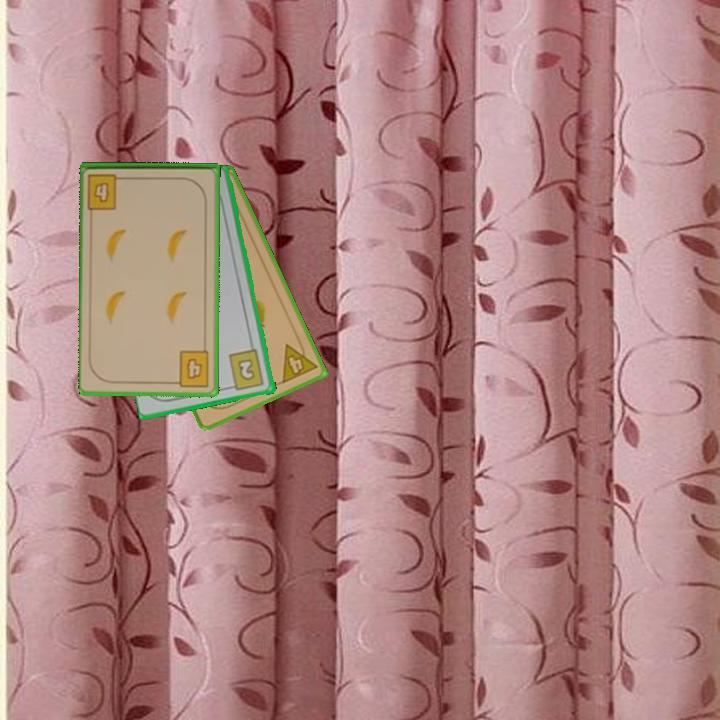2b: (225, 346, 267, 393)
4b: (85, 170, 129, 212), (169, 347, 212, 389)
4p: (278, 335, 320, 386)
